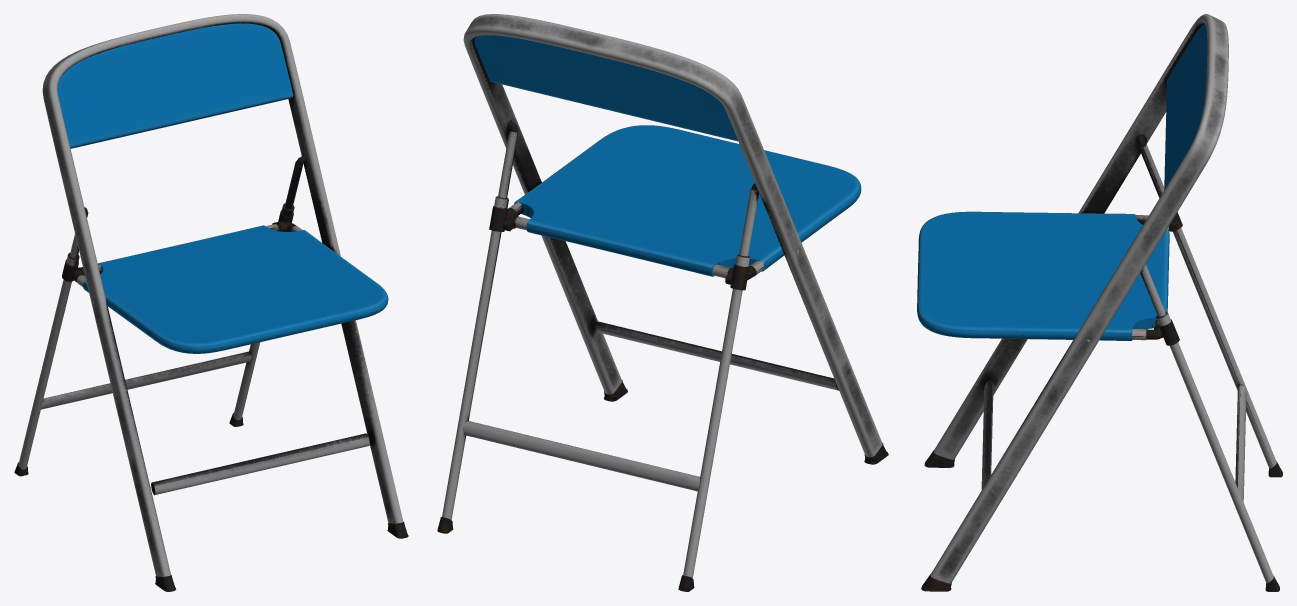
The model's file is chair_blue.glb.
3 views of the same model, side by side, from view 1: azimuth 30°, elevation 25°; view 2: azimuth 150°, elevation 25°; view 3: azimuth 270°, elevation 25° (orthographic). The views are drawn at different scales.
Visible parts, largest first — view 1: Object_4, Object_3, Object_5, Object_2; view 2: Object_4, Object_3, Object_5, Object_2; view 3: Object_4, Object_3, Object_5, Object_2.
Boxes of the visible parts, x1,y1,x2,y2 form: Object_4: [14, 23, 408, 591]; Object_3: [42, 14, 403, 576]; Object_5: [17, 35, 407, 591]; Object_2: [19, 36, 408, 591]; Object_4: [437, 35, 888, 591]; Object_3: [463, 14, 882, 457]; Object_5: [437, 121, 887, 591]; Object_2: [437, 132, 888, 591]; Object_4: [917, 24, 1282, 591]; Object_3: [917, 14, 1228, 583]; Object_5: [921, 75, 1282, 590]; Object_2: [917, 73, 1279, 591].
Size of the model in its own units: 0.294 by 0.5059 by 0.3512.
Materials: 1 (1 with a texture image).
